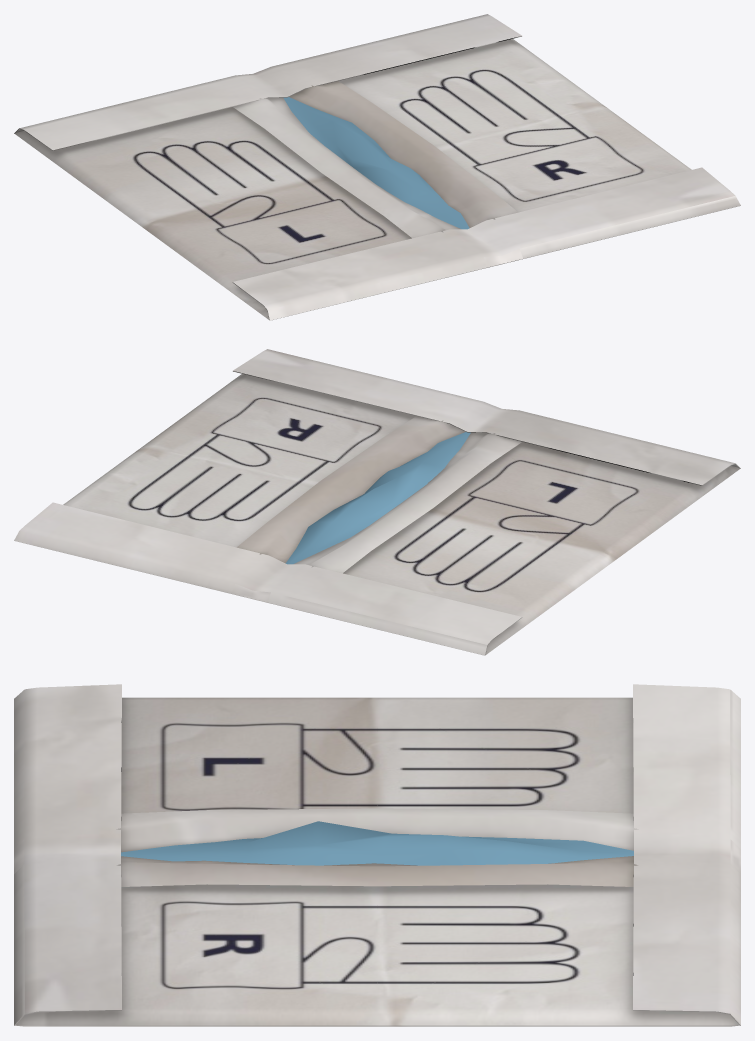
The model's file is gloveBox2.fbx.
The picture shows the model from 3 angles, top to bottom: view 1: azimuth 30°, elevation 25°; view 2: azimuth 150°, elevation 25°; view 3: azimuth 270°, elevation 25°; orthographic projection. The views are drawn at different scales.
Visible parts, largest first — view 1: Plane; view 2: Plane; view 3: Plane.
Part boxes in pixels (x1=…): Plane: x1=14, y1=14, x2=740, y2=320; Plane: x1=14, y1=349, x2=740, y2=655; Plane: x1=14, y1=684, x2=740, y2=1026.
Size of the model in its own units: 0.1613 by 0.00856 by 0.1518.
